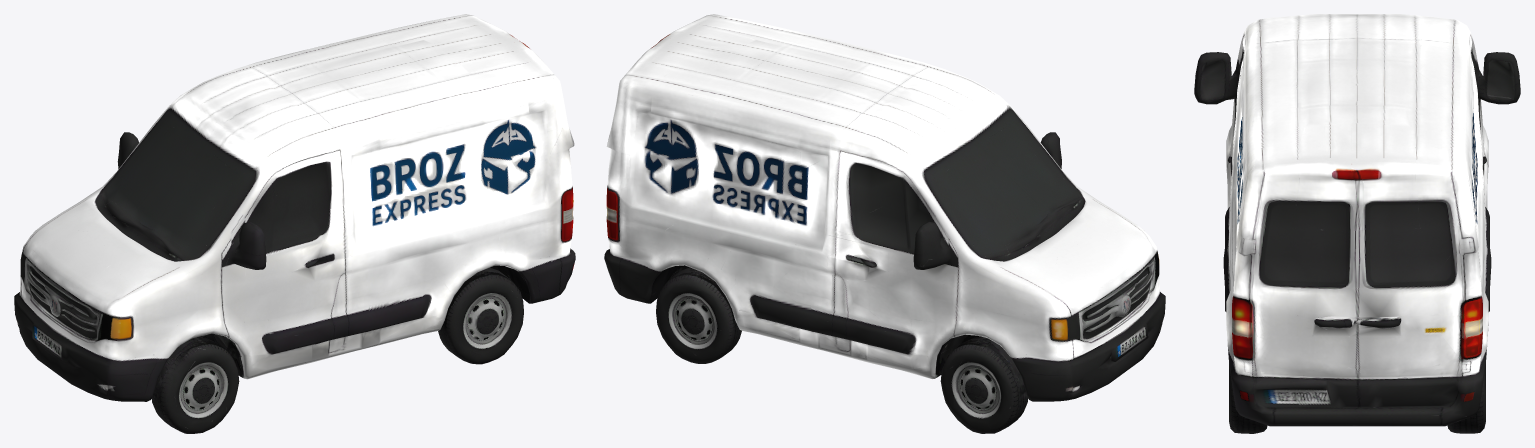
Rendered from Car.glb.
3 views of the same model, side by side, from view 1: azimuth 30°, elevation 25°; view 2: azimuth 150°, elevation 25°; view 3: azimuth 270°, elevation 25° (orthographic). The views are drawn at different scales.
Size of the model in its own units: 1.91 by 1.01 by 0.9511.
Materials: 1 (1 with a texture image).
